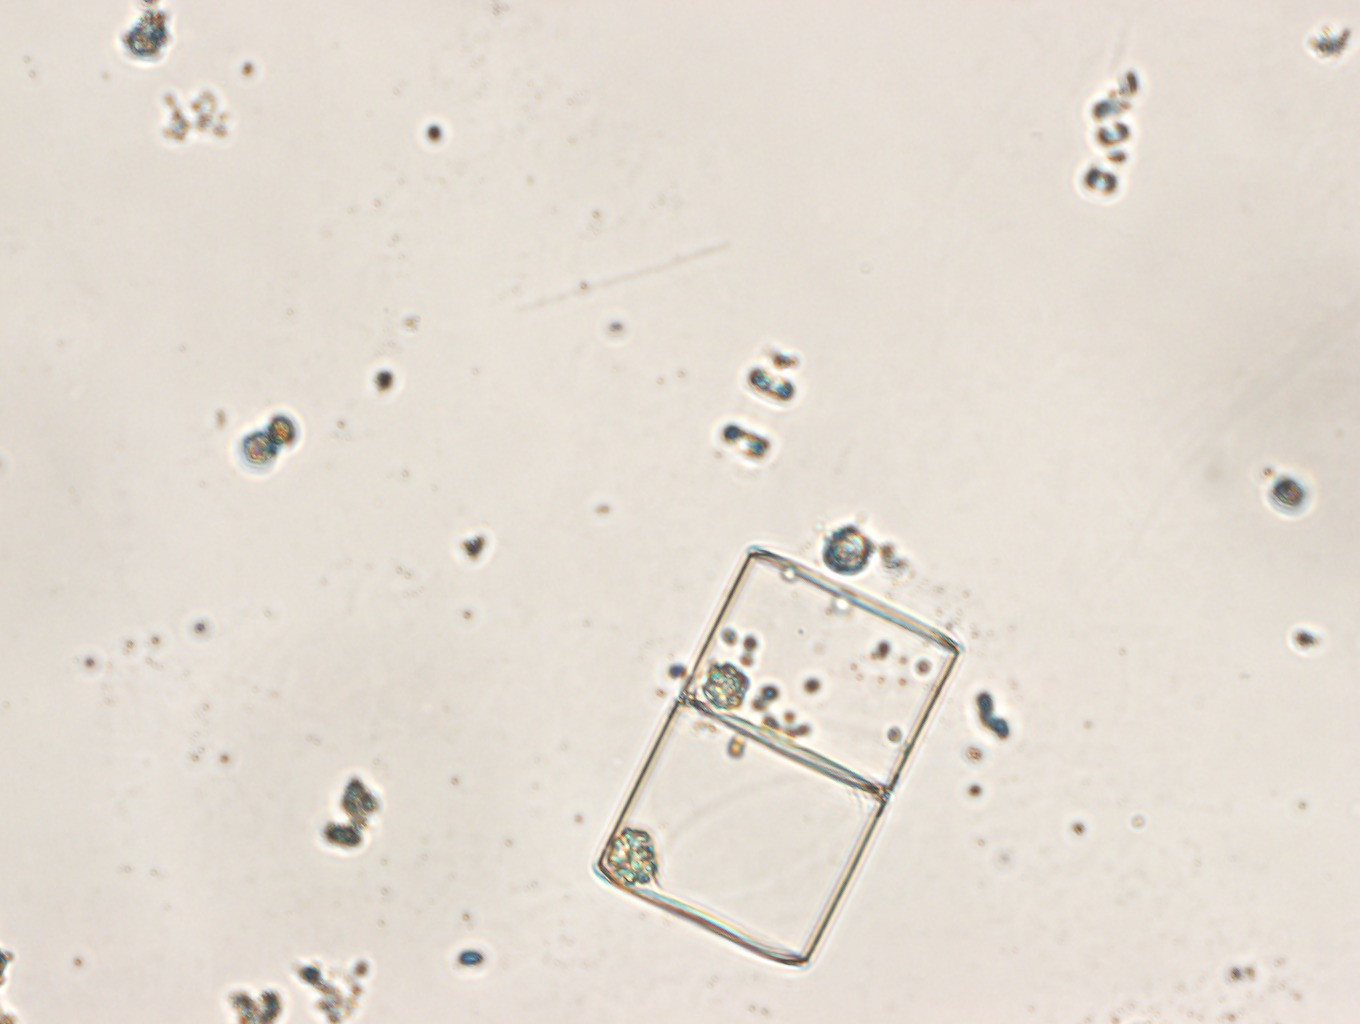guinardia flaccida: (593, 546, 963, 973)
